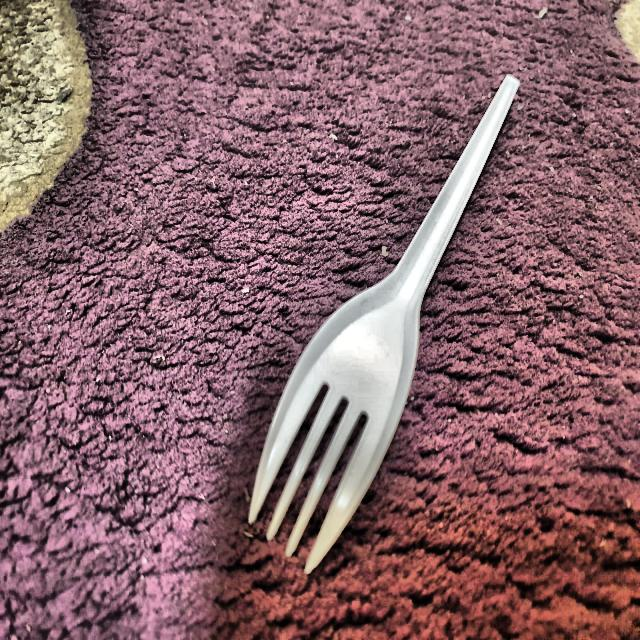plastic utensil: (243, 70, 520, 570)
